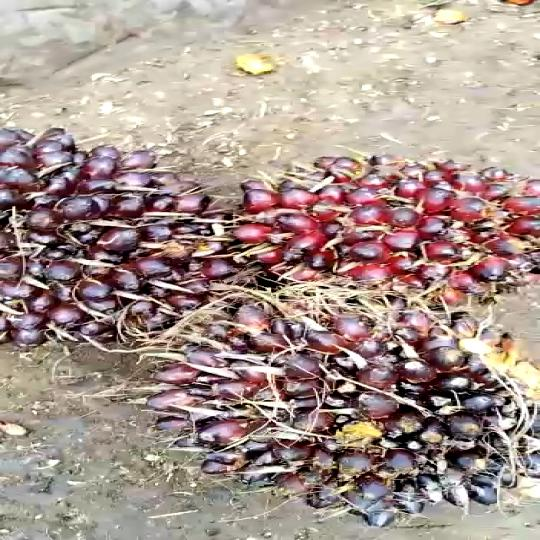kurang masak: (133, 271, 540, 520), (237, 146, 540, 341), (0, 117, 240, 351)
